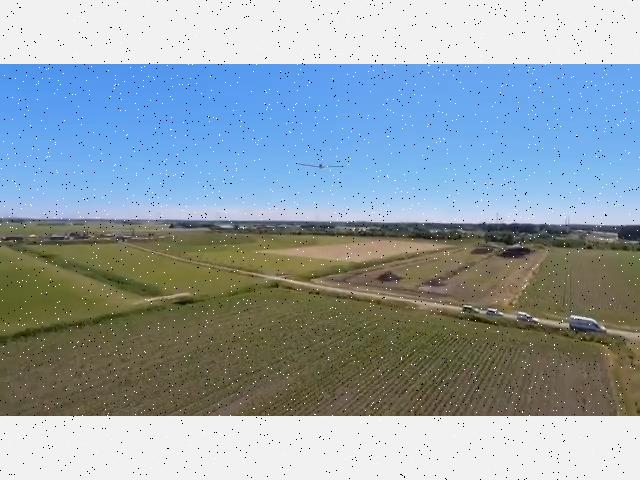Anti-Drone: (293, 152, 351, 181)
